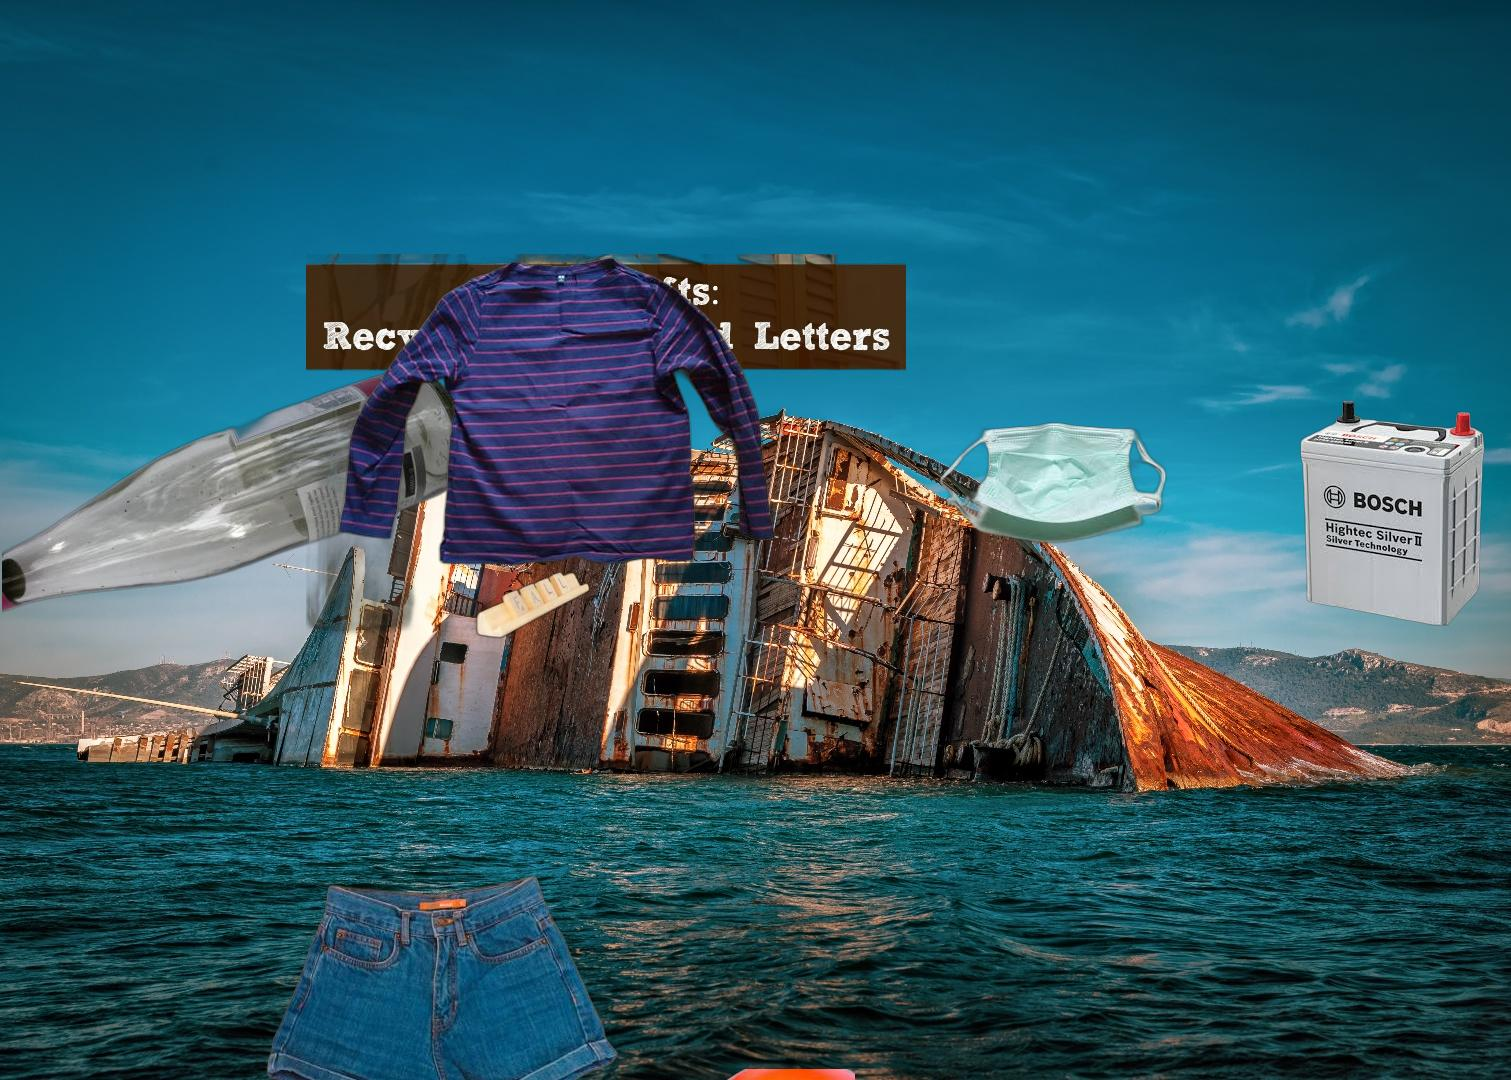battery: (1297, 401, 1486, 626)
biological: (650, 1069, 855, 1080)
clothes: (333, 255, 779, 568), (263, 870, 622, 1080)
glass: (2, 353, 473, 615)
paper: (1386, 893, 1511, 1080)
trash: (938, 420, 1169, 547)
trashbox-cardboard: (306, 254, 906, 655)
